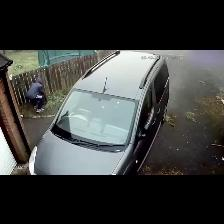person: (26, 77, 45, 112)
